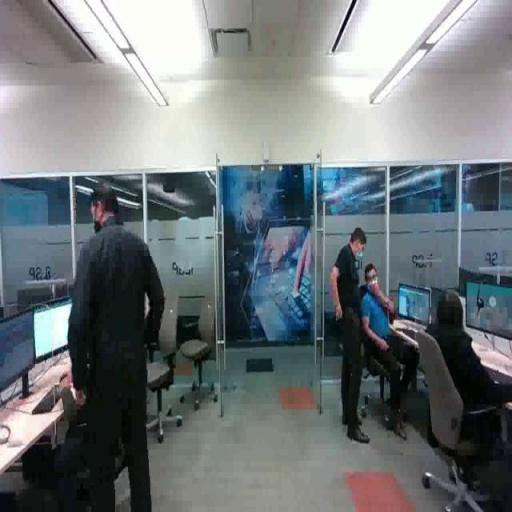person: (71, 186, 167, 512), (424, 283, 512, 497), (360, 261, 421, 441), (336, 227, 373, 447)
